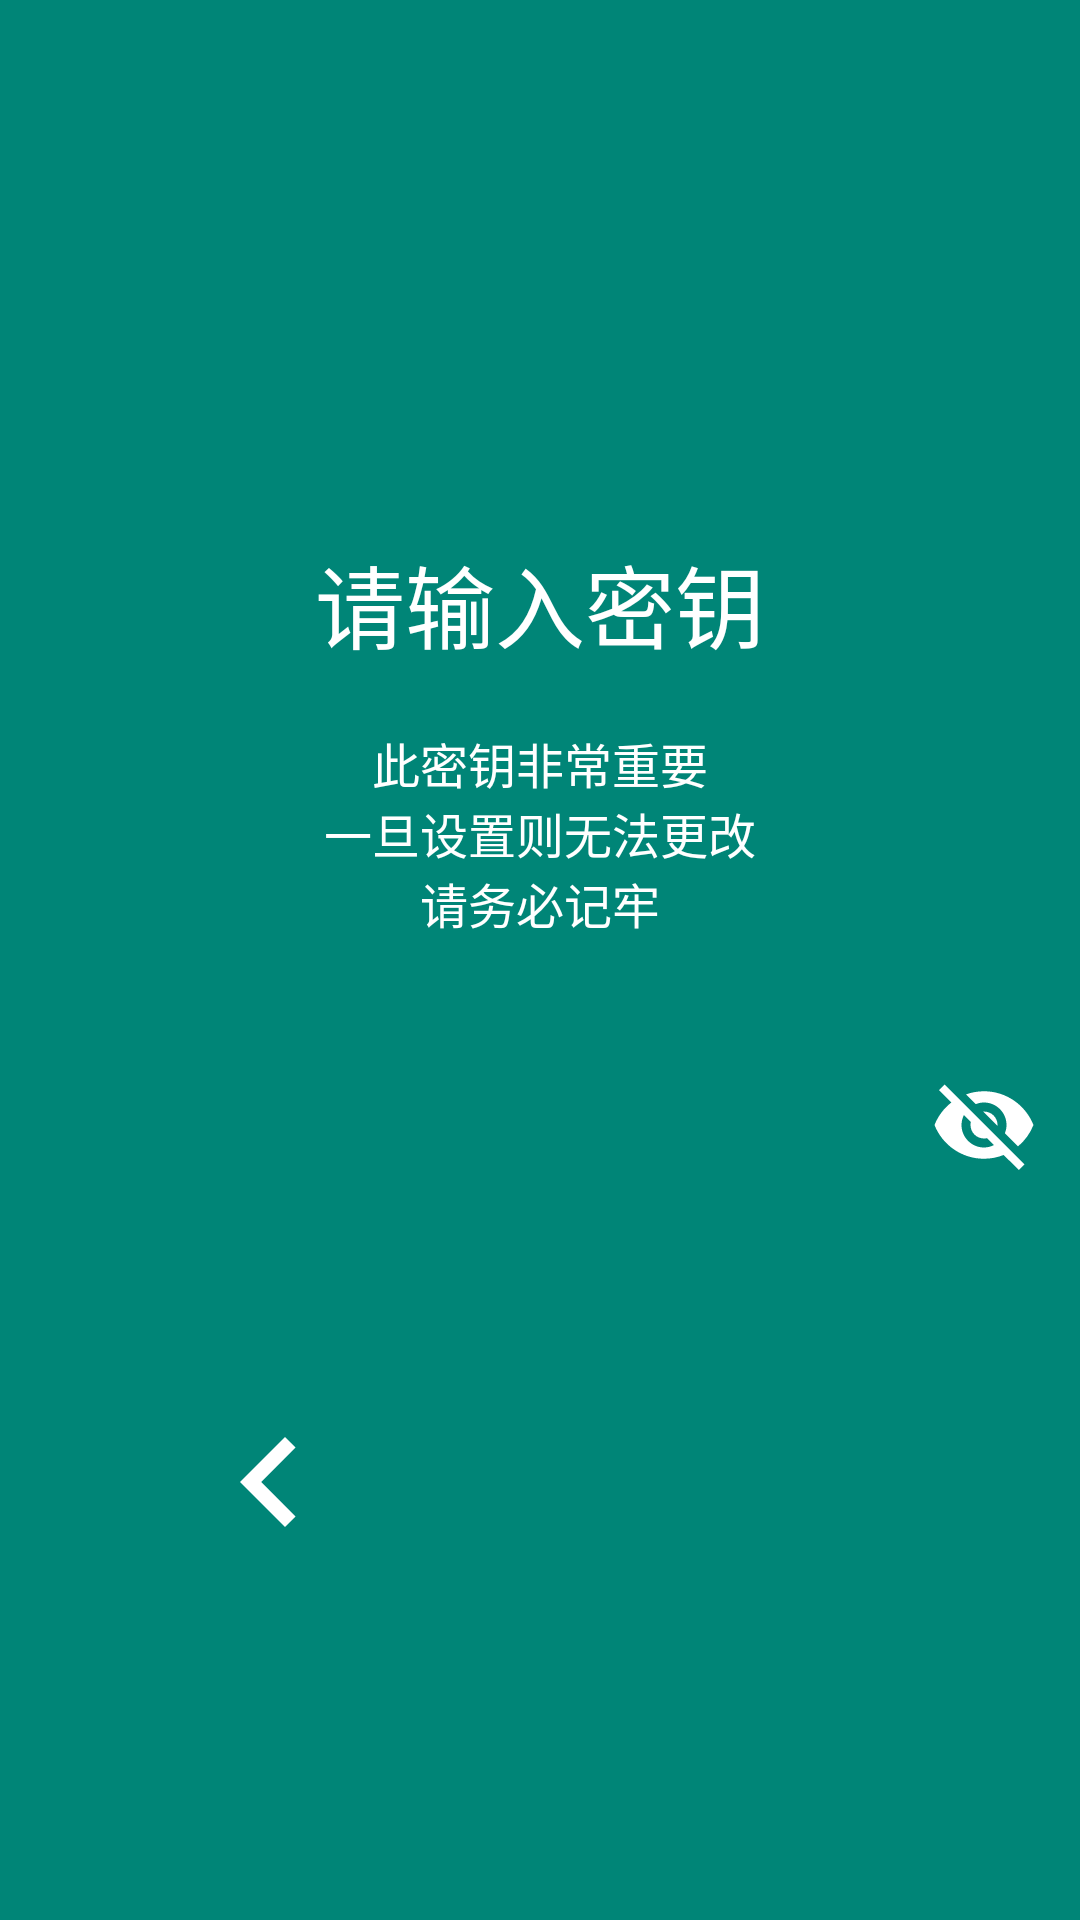

Screen size 1080w x 1920h. Icon name, then its box in pixels as (x1, y1, x2, y2):
previous step btn: (240, 1437, 296, 1527)
show/hide the password: (934, 1084, 1034, 1170)
